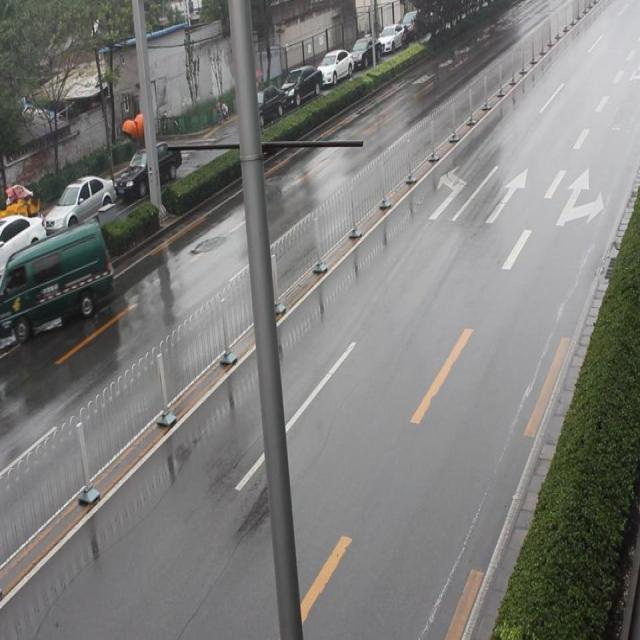truck: (1, 224, 116, 346)
